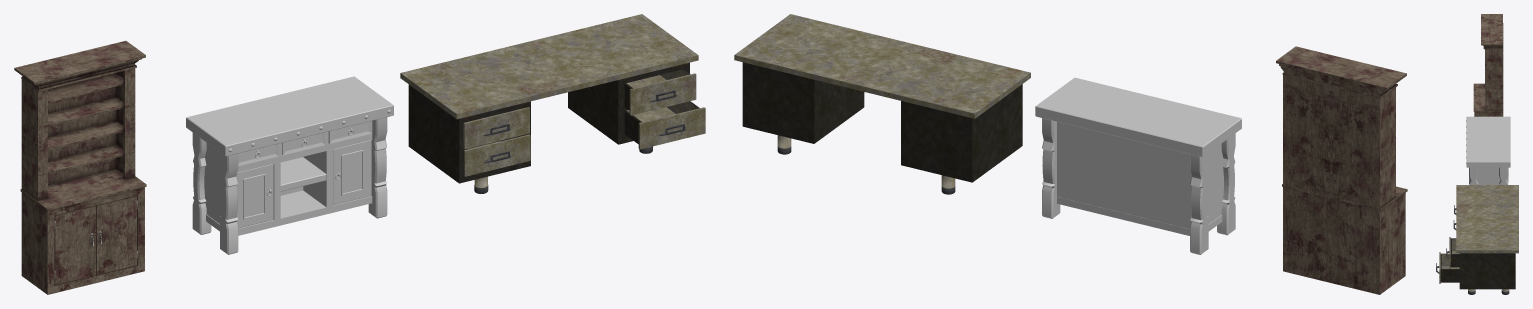
File: FurniturePack.obj
The picture shows the model from 3 angles, left to right: view 1: azimuth 30°, elevation 25°; view 2: azimuth 150°, elevation 25°; view 3: azimuth 270°, elevation 25°; orthographic projection. The views are drawn at different scales.
Parts seen in each view (by area): view 1: Cube.014, Cube_Cube.001, Cube.017_Cube.016, Cube.004_Cube, Cube.001_Cube.002, Cube.016_Cube.015, Cube.005, Cube.010, Cube.002_Cube.003, Cube.003_Cube.004, Cube.006, Cube.015_Cube.017 (+4 smaller); view 2: Cube.014, Cube.016_Cube.015, Cube.001_Cube.002, Cube_Cube.001, Cube.011, Cube.004_Cube, Cube.005, Cube.003_Cube.004, Cube.012, Cube.006, Cylinder; view 3: Cube.014, Cube.004_Cube, Cube.016_Cube.015, Cube.001_Cube.002, Cube.017_Cube.016, Cube.003_Cube.004, Cube_Cube.001, Cube.012, Cube.005, Cylinder.
Part boxes in pixels (<box>): Cube.014: <box>400,14,698,119</box>; Cube_Cube.001: <box>20,169,146,294</box>; Cube.017_Cube.016: <box>463,69,705,176</box>; Cube.004_Cube: <box>186,76,393,156</box>; Cube.001_Cube.002: <box>21,68,135,200</box>; Cube.016_Cube.015: <box>408,62,689,183</box>; Cube.005: <box>192,117,387,254</box>; Cube.010: <box>236,140,371,228</box>; Cube.002_Cube.003: <box>48,73,123,174</box>; Cube.003_Cube.004: <box>14,40,145,91</box>; Cube.006: <box>206,190,372,235</box>; Cube.015_Cube.017: <box>238,121,371,166</box>; Cube.014: <box>734,14,1030,118</box>; Cube.016_Cube.015: <box>742,62,1022,182</box>; Cube.001_Cube.002: <box>1283,75,1395,208</box>; Cube_Cube.001: <box>1282,184,1407,294</box>; Cube.011: <box>1057,122,1191,228</box>; Cube.004_Cube: <box>1035,77,1241,157</box>; Cube.005: <box>1042,118,1235,254</box>; Cube.003_Cube.004: <box>1276,46,1406,98</box>; Cube.012: <box>1206,143,1223,224</box>; Cube.006: <box>1057,197,1222,235</box>; Cylinder: <box>777,135,955,194</box>; Cube.014: <box>1456,185,1518,253</box>; Cube.004_Cube: <box>1466,116,1510,167</box>; Cube.016_Cube.015: <box>1459,253,1515,289</box>; Cube.001_Cube.002: <box>1485,23,1503,110</box>; Cube.017_Cube.016: <box>1436,205,1459,283</box>; Cube.003_Cube.004: <box>1481,14,1502,49</box>; Cube_Cube.001: <box>1473,83,1503,116</box>; Cube.012: <box>1477,167,1500,184</box>; Cube.005: <box>1469,167,1508,184</box>; Cylinder: <box>1468,289,1509,294</box>.
Size of the model in its own units: 3.73 by 1.16 by 0.7503.
